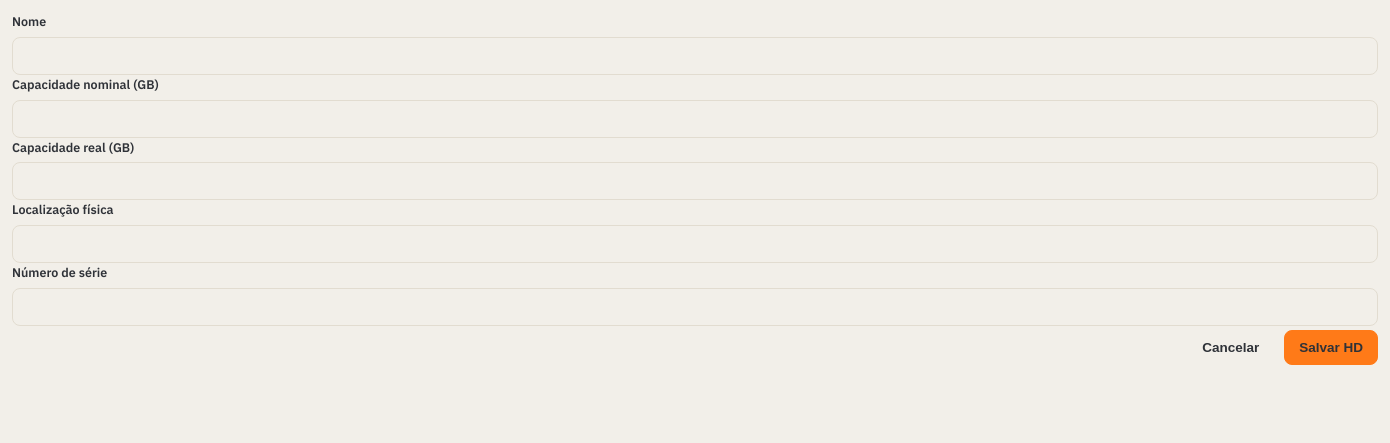
Test case: HdQuickCreateForm › exige o nome antes de submeter
The image size is (1390, 443).
What coordinates should you click on to do the following:
click the button "Salvar HD"
I would click on:
 (1331, 347)
Its box is [1284, 330, 1378, 365].
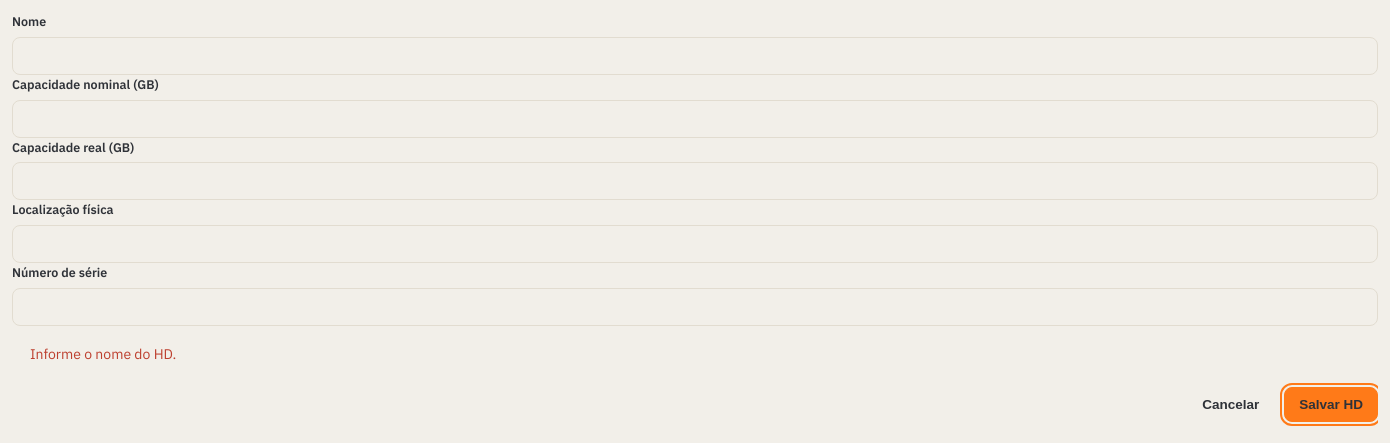
Check: the text "Informe o nome do HD." is shown, box [30, 345, 176, 363]
